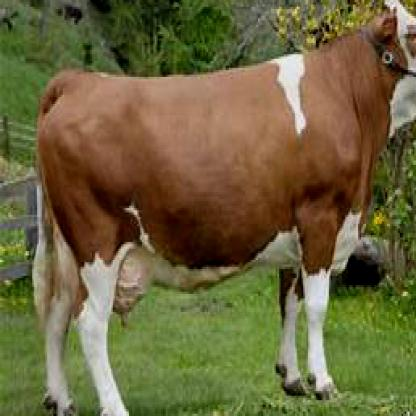cow: (33, 0, 414, 414)
